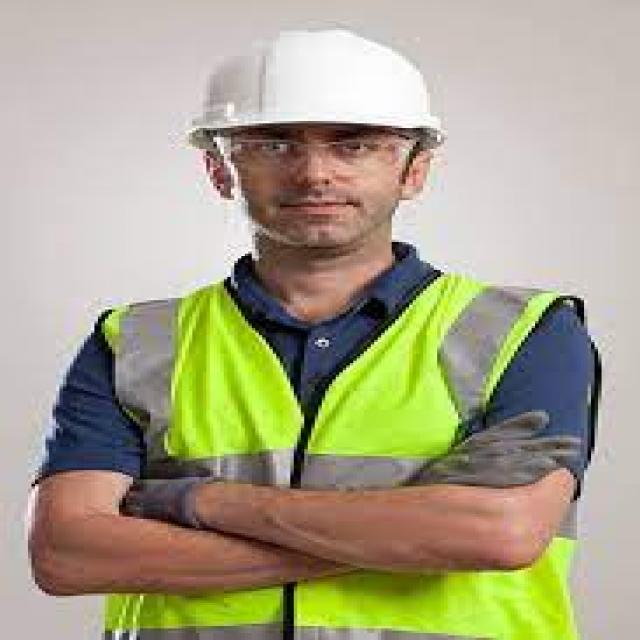Reflective-Jacket: (80, 263, 602, 640)
Safety-Helmet: (178, 19, 455, 149)
